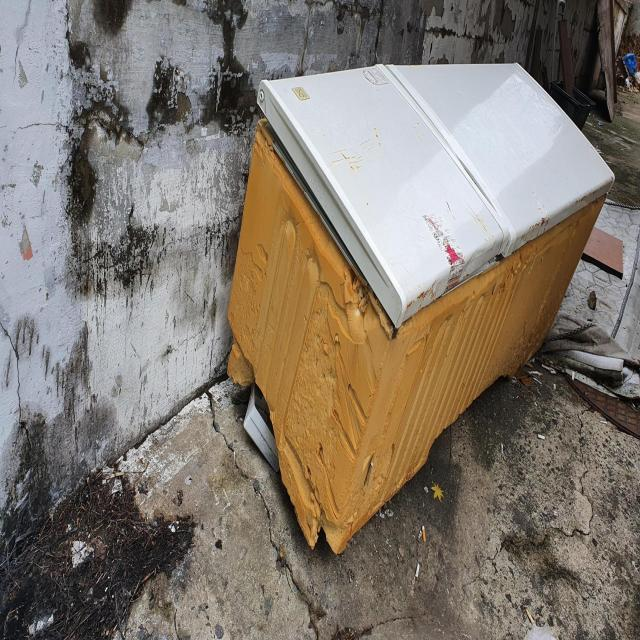refrigerator: (216, 57, 616, 556)
